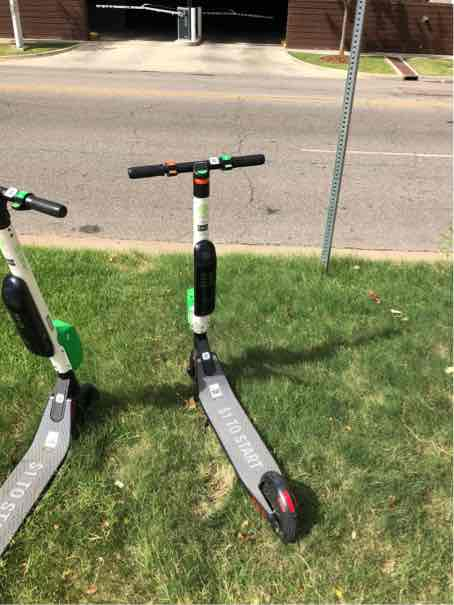scooter: (124, 150, 317, 548)
